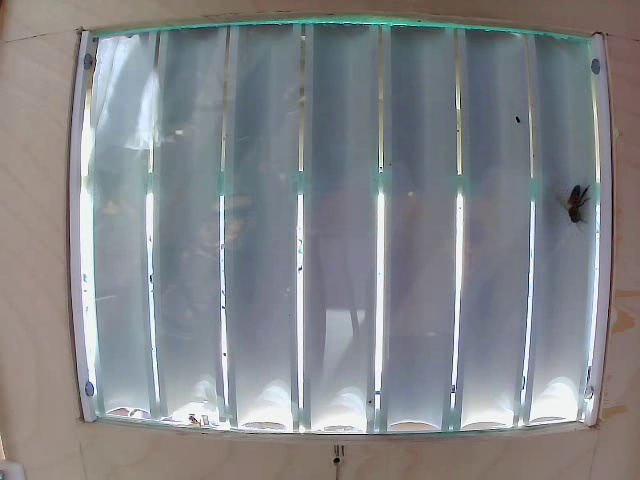bee: (563, 176, 595, 220)
